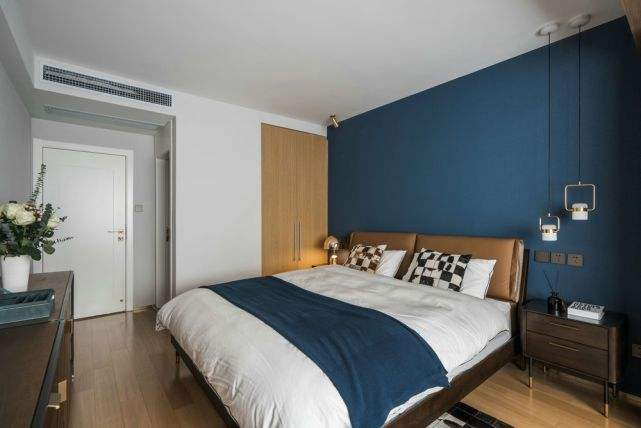床: (150, 267, 514, 422)
枕头: (396, 250, 490, 299), (336, 242, 400, 277)
灯: (561, 181, 599, 223), (535, 211, 564, 245)
